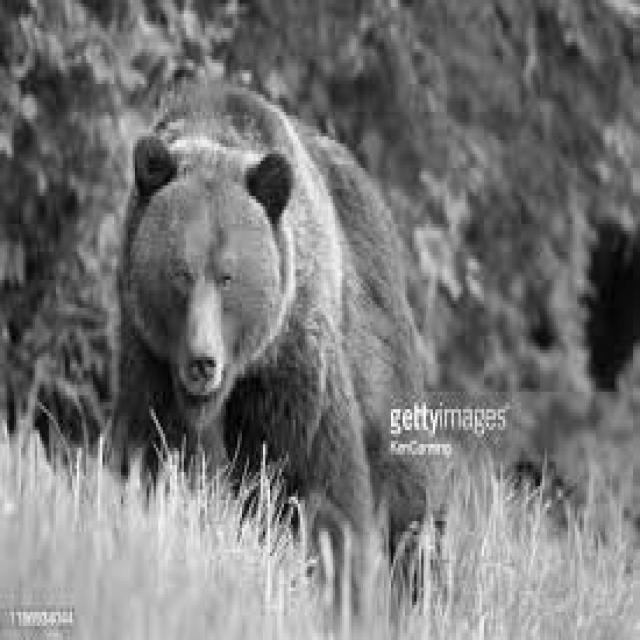Bear: (123, 80, 444, 550)
